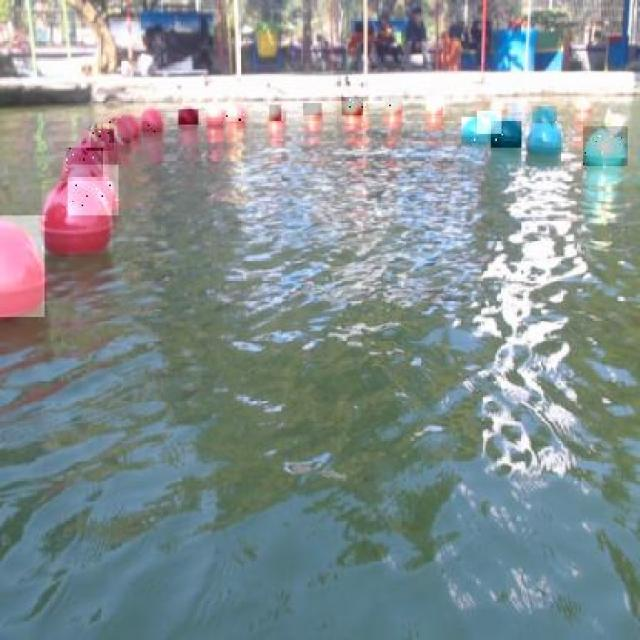green_ball: (584, 128, 626, 165), (526, 123, 561, 156), (491, 120, 522, 147), (462, 118, 490, 144), (532, 106, 556, 129), (478, 111, 501, 134)
red_ball: (42, 179, 111, 251), (0, 216, 47, 317), (68, 165, 118, 216), (66, 148, 105, 178), (79, 136, 111, 164), (100, 114, 126, 143), (136, 108, 164, 134), (84, 128, 115, 151), (88, 124, 118, 144), (118, 113, 141, 137), (223, 104, 247, 123), (178, 105, 198, 125), (342, 96, 362, 115), (424, 101, 443, 117), (385, 98, 402, 115), (207, 108, 224, 125), (574, 97, 592, 113), (304, 104, 322, 119), (490, 101, 506, 115), (268, 104, 280, 120)
